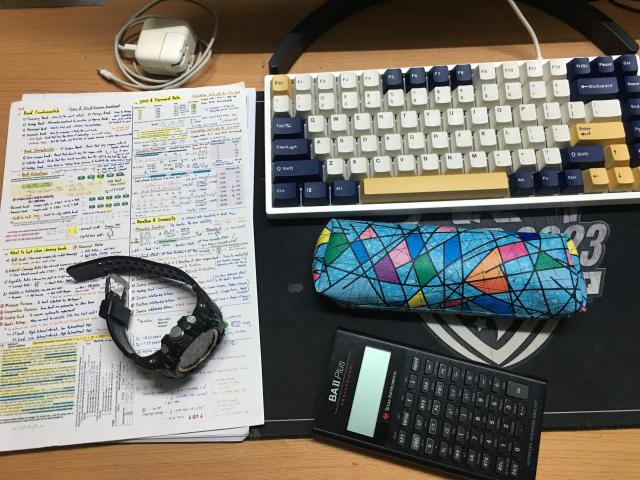Watch: (66, 256, 225, 379)
paper: (0, 82, 264, 451)
wire: (99, 0, 219, 90)
